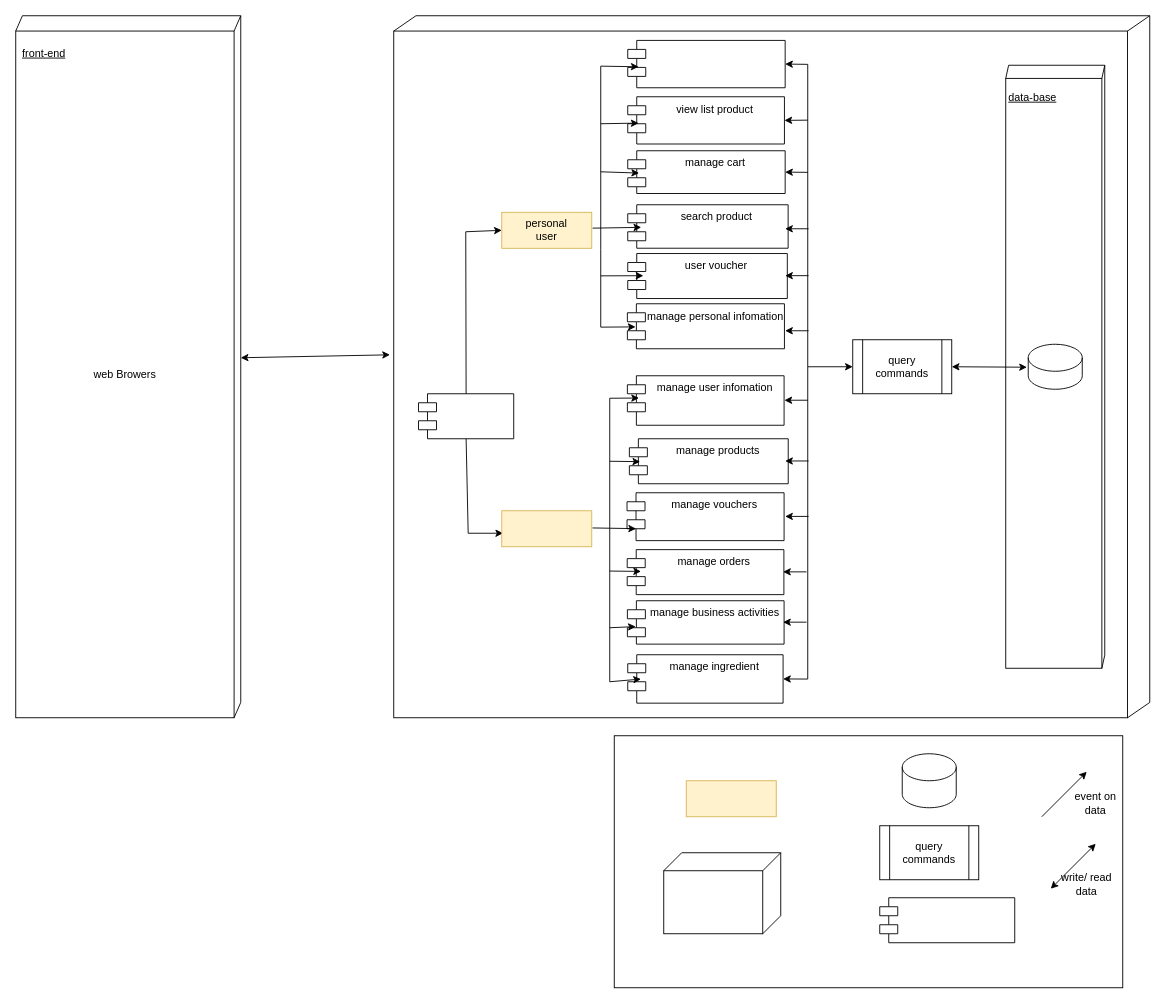
Some shapes in this 1166 by 1004 pixel diagram are drawn without their labels. Each missing label, with the centre of its shape:
components: (947,920)
database: (928,780)
local authority: (546,528)
Login: (466,416)
MySql: (1054,366)
purchase product: (706,64)
status account: (730,798)
system: (713,902)
